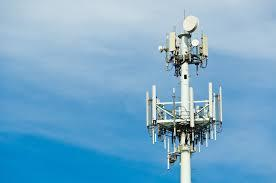Microwave Antenna: (182, 16, 201, 35), (155, 44, 165, 55), (192, 39, 199, 49)
antenna: (150, 83, 160, 121), (143, 86, 152, 127), (188, 86, 196, 128), (219, 84, 226, 126), (200, 34, 209, 58), (208, 83, 213, 122), (169, 30, 176, 51)
